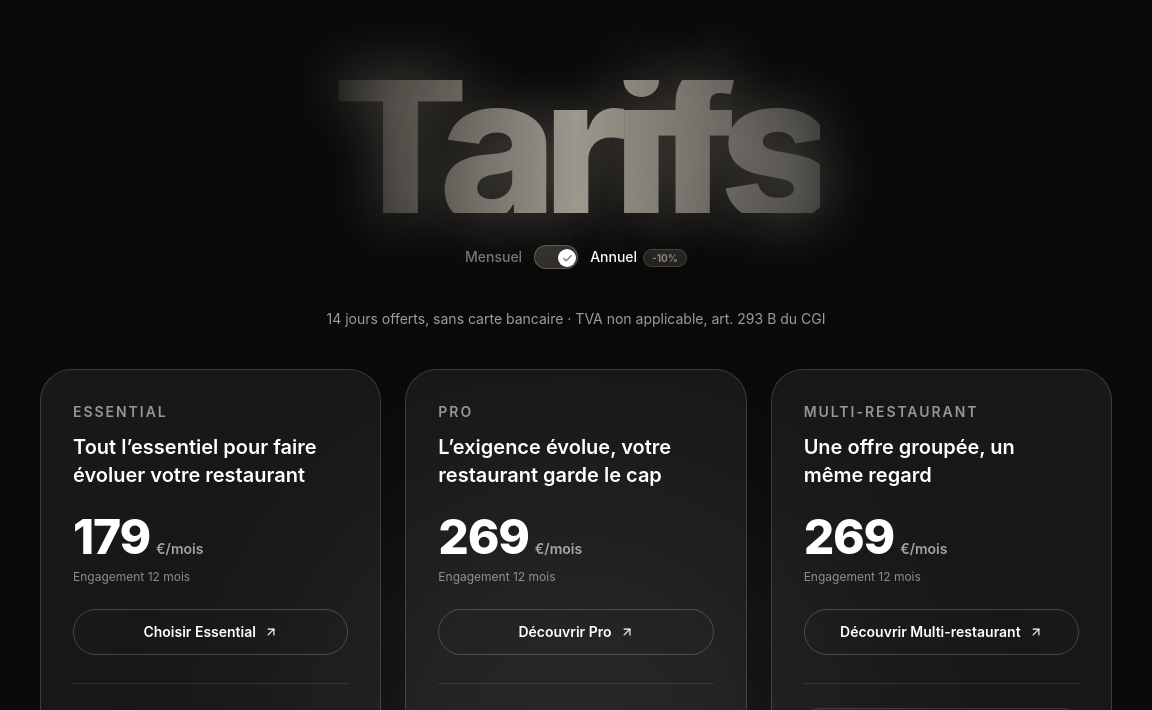
Scenario: PricingSection › précise le paiement annuel et distingue le mensuel
expect the text "Engagement 12 mois" is shown 3 times: met, box [73,570,190,584]; [438,570,556,584]; [804,570,921,584]
Click the switch: (556, 258) [534,246,578,270]
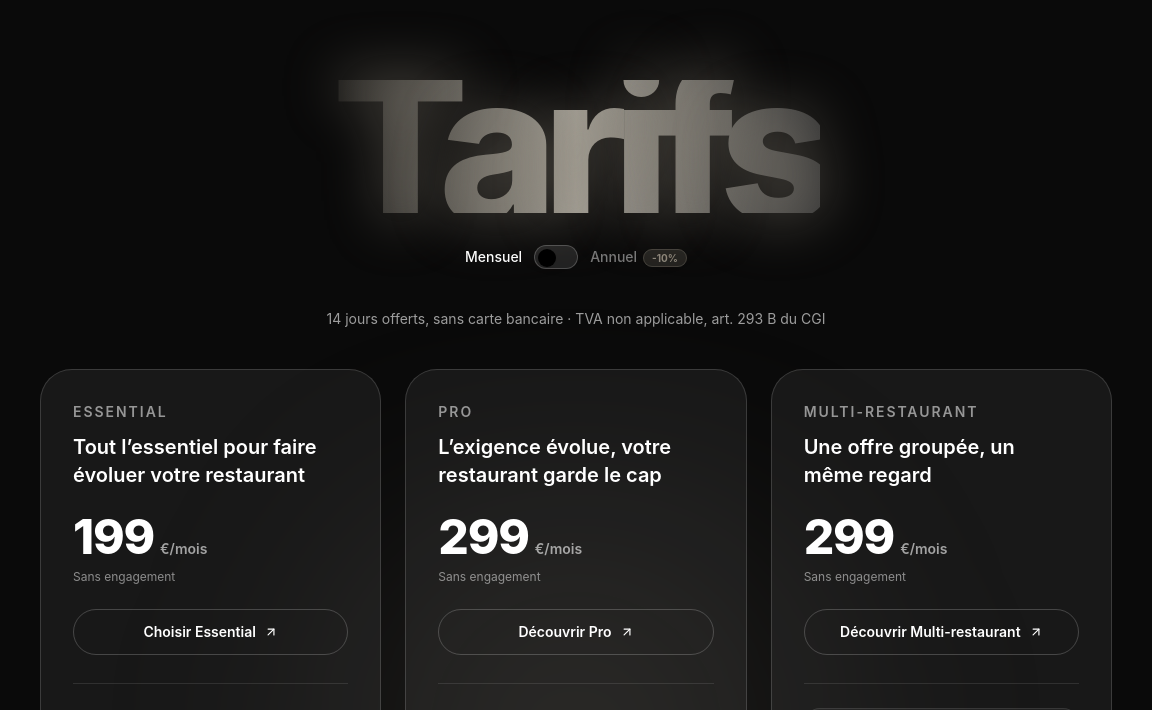
expect the text "Sans engagement" is shown 3 times: met, box [73,570,175,584]; [438,570,541,584]; [804,570,906,584]
expect the text "Engagement 12 mois" is gone: met
